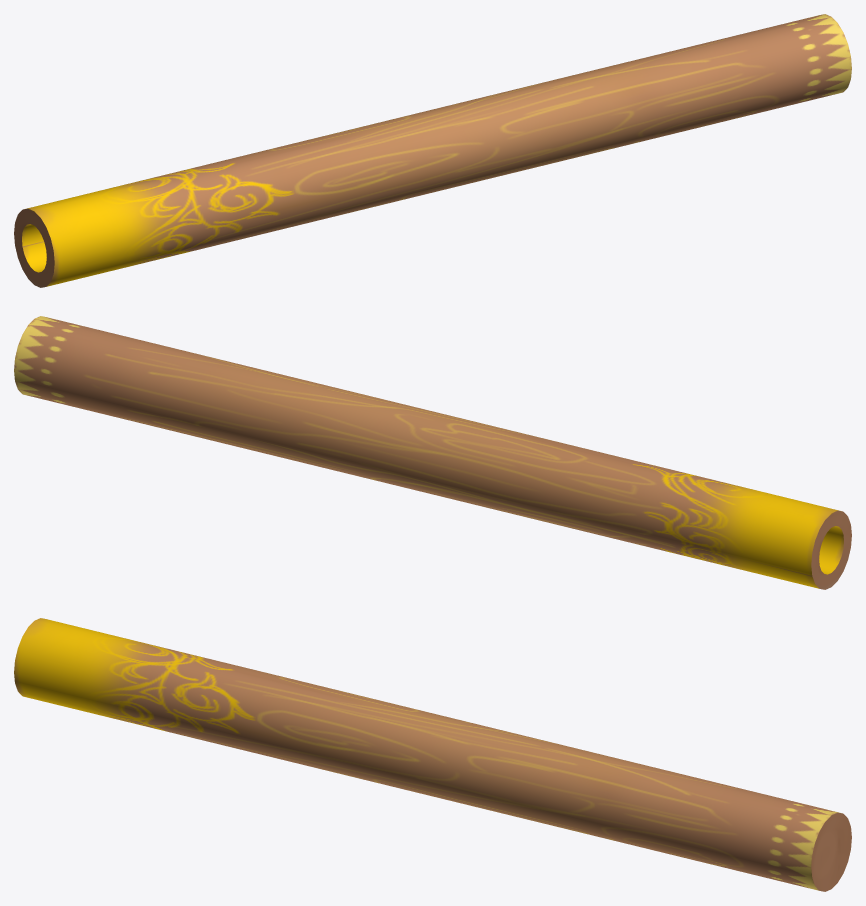
The picture shows the model from 3 angles, top to bottom: view 1: azimuth 30°, elevation 25°; view 2: azimuth 150°, elevation 25°; view 3: azimuth 330°, elevation 25°; orthographic projection.
Visible parts, largest first — view 1: pCylinder2; view 2: pCylinder2; view 3: pCylinder2.
Boxes of the visible parts, <box> form: pCylinder2: <box>14,14,851,287</box>; pCylinder2: <box>14,316,851,589</box>; pCylinder2: <box>14,618,851,891</box>.
Size of the model in its own units: 22.6 by 2 by 2.
Materials: 1 (1 with a texture image).
